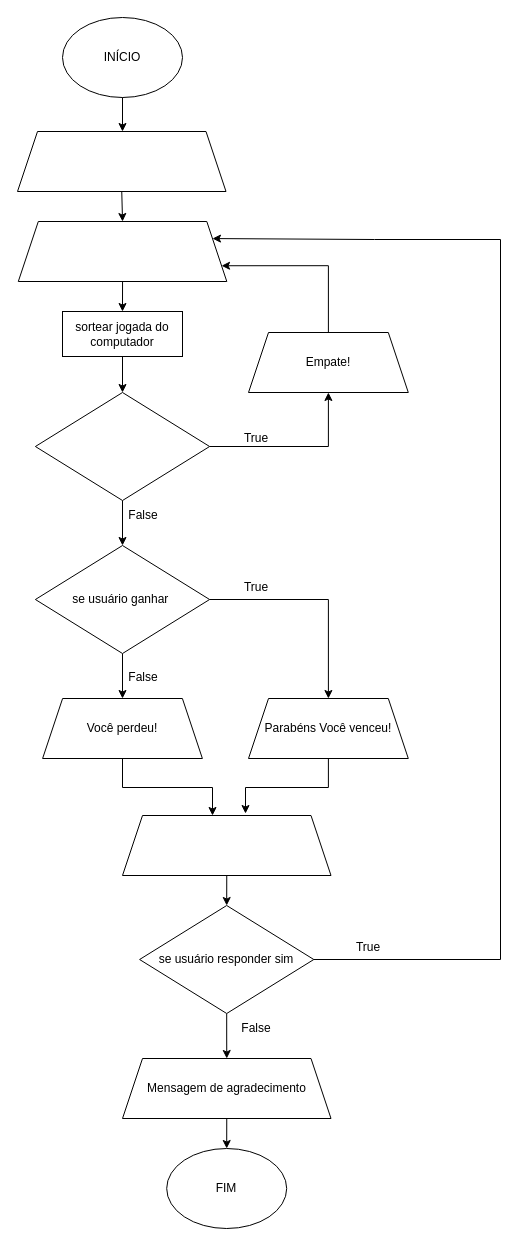
Image size: 526x1246. Some labels were removed from this diagram. The centre of each missing label's shape, as x and y in pixels:
"bem vindo, apresentação e regras do jogo'" goes at pixel 121 161.
"faça sua jogada" goes at pixel 122 251.
"Quer jogar novamente? Sim ou não?" goes at pixel 226 845.
"se usuário empatar" goes at pixel 122 446.
